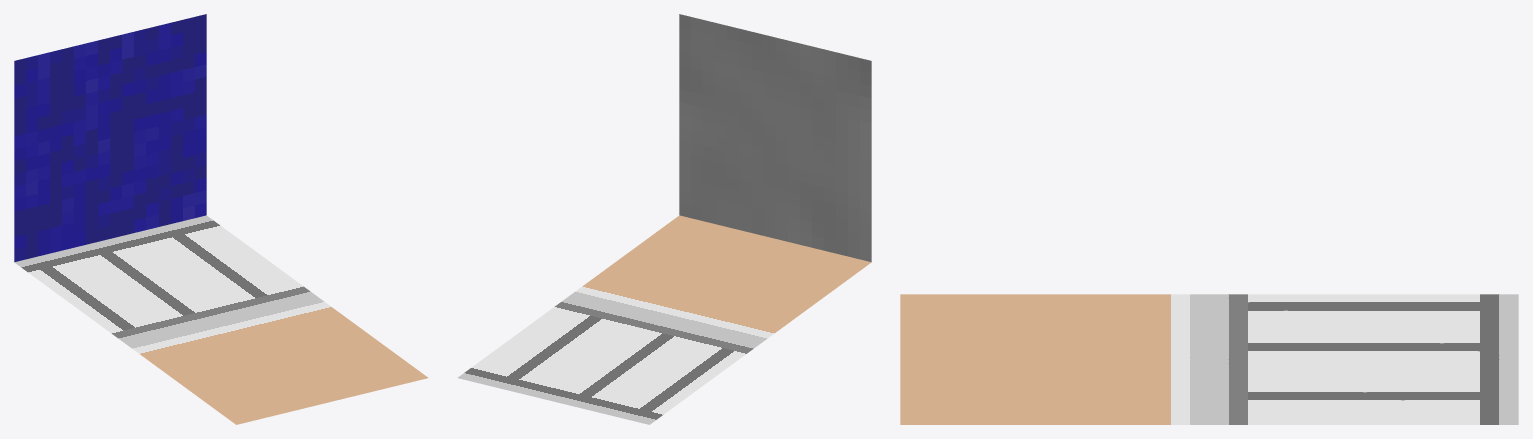
The model's file is Wall.gltf.
3 renders of one model, left to right at view 1: azimuth 30°, elevation 25°; view 2: azimuth 150°, elevation 25°; view 3: azimuth 270°, elevation 25°, orthographic. The views are drawn at different scales.
Visible parts, largest first — view 1: Wall; view 2: Wall; view 3: Wall.
Boxes of the visible parts, box(x1,y1,x2,y2) form: Wall: box(14, 14, 428, 424); Wall: box(457, 14, 871, 424); Wall: box(900, 294, 1518, 424).
Bounding box in the file's own units: 1 × 1 × 2.
3 materials, 3 textured.
